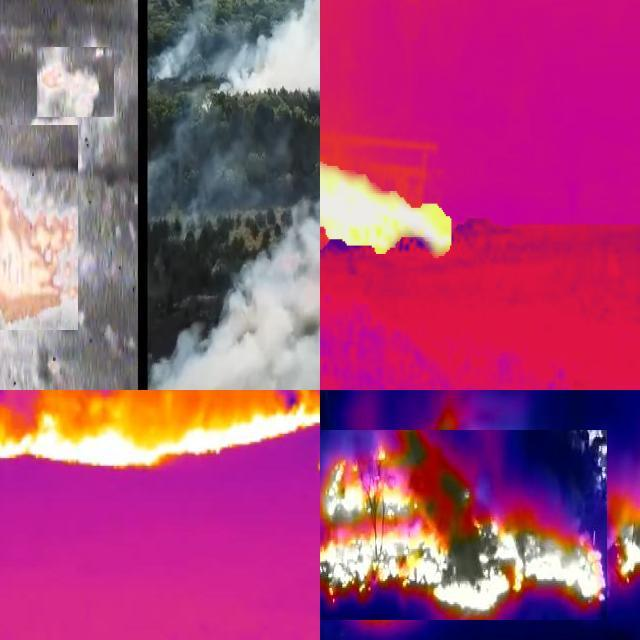fire: (321, 430, 607, 620), (1, 391, 321, 478), (321, 94, 461, 270), (1, 125, 78, 330), (37, 47, 114, 117), (611, 443, 640, 579)
